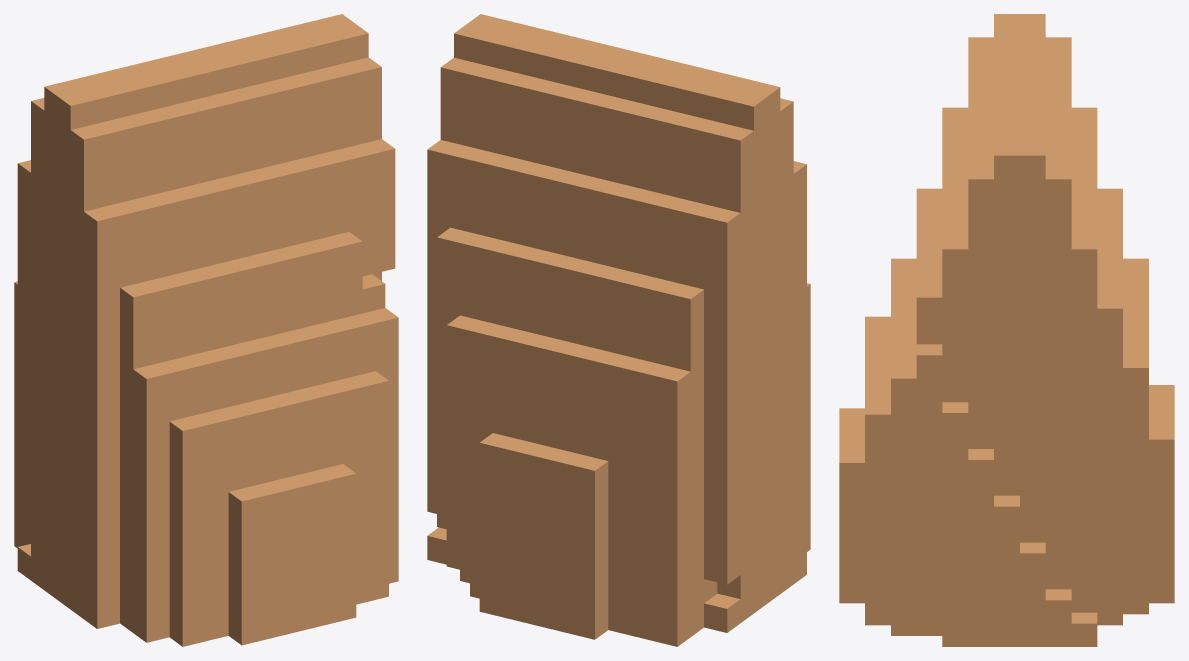
The model's file is Eruption-12.obj.
3 views of the same model, side by side, from view 1: azimuth 30°, elevation 25°; view 2: azimuth 150°, elevation 25°; view 3: azimuth 270°, elevation 25° (orthographic). The views are drawn at different scales.
Bounding box in the file's own units: 2.6 × 4.2 × 2.6.
1 material, 1 textured.
